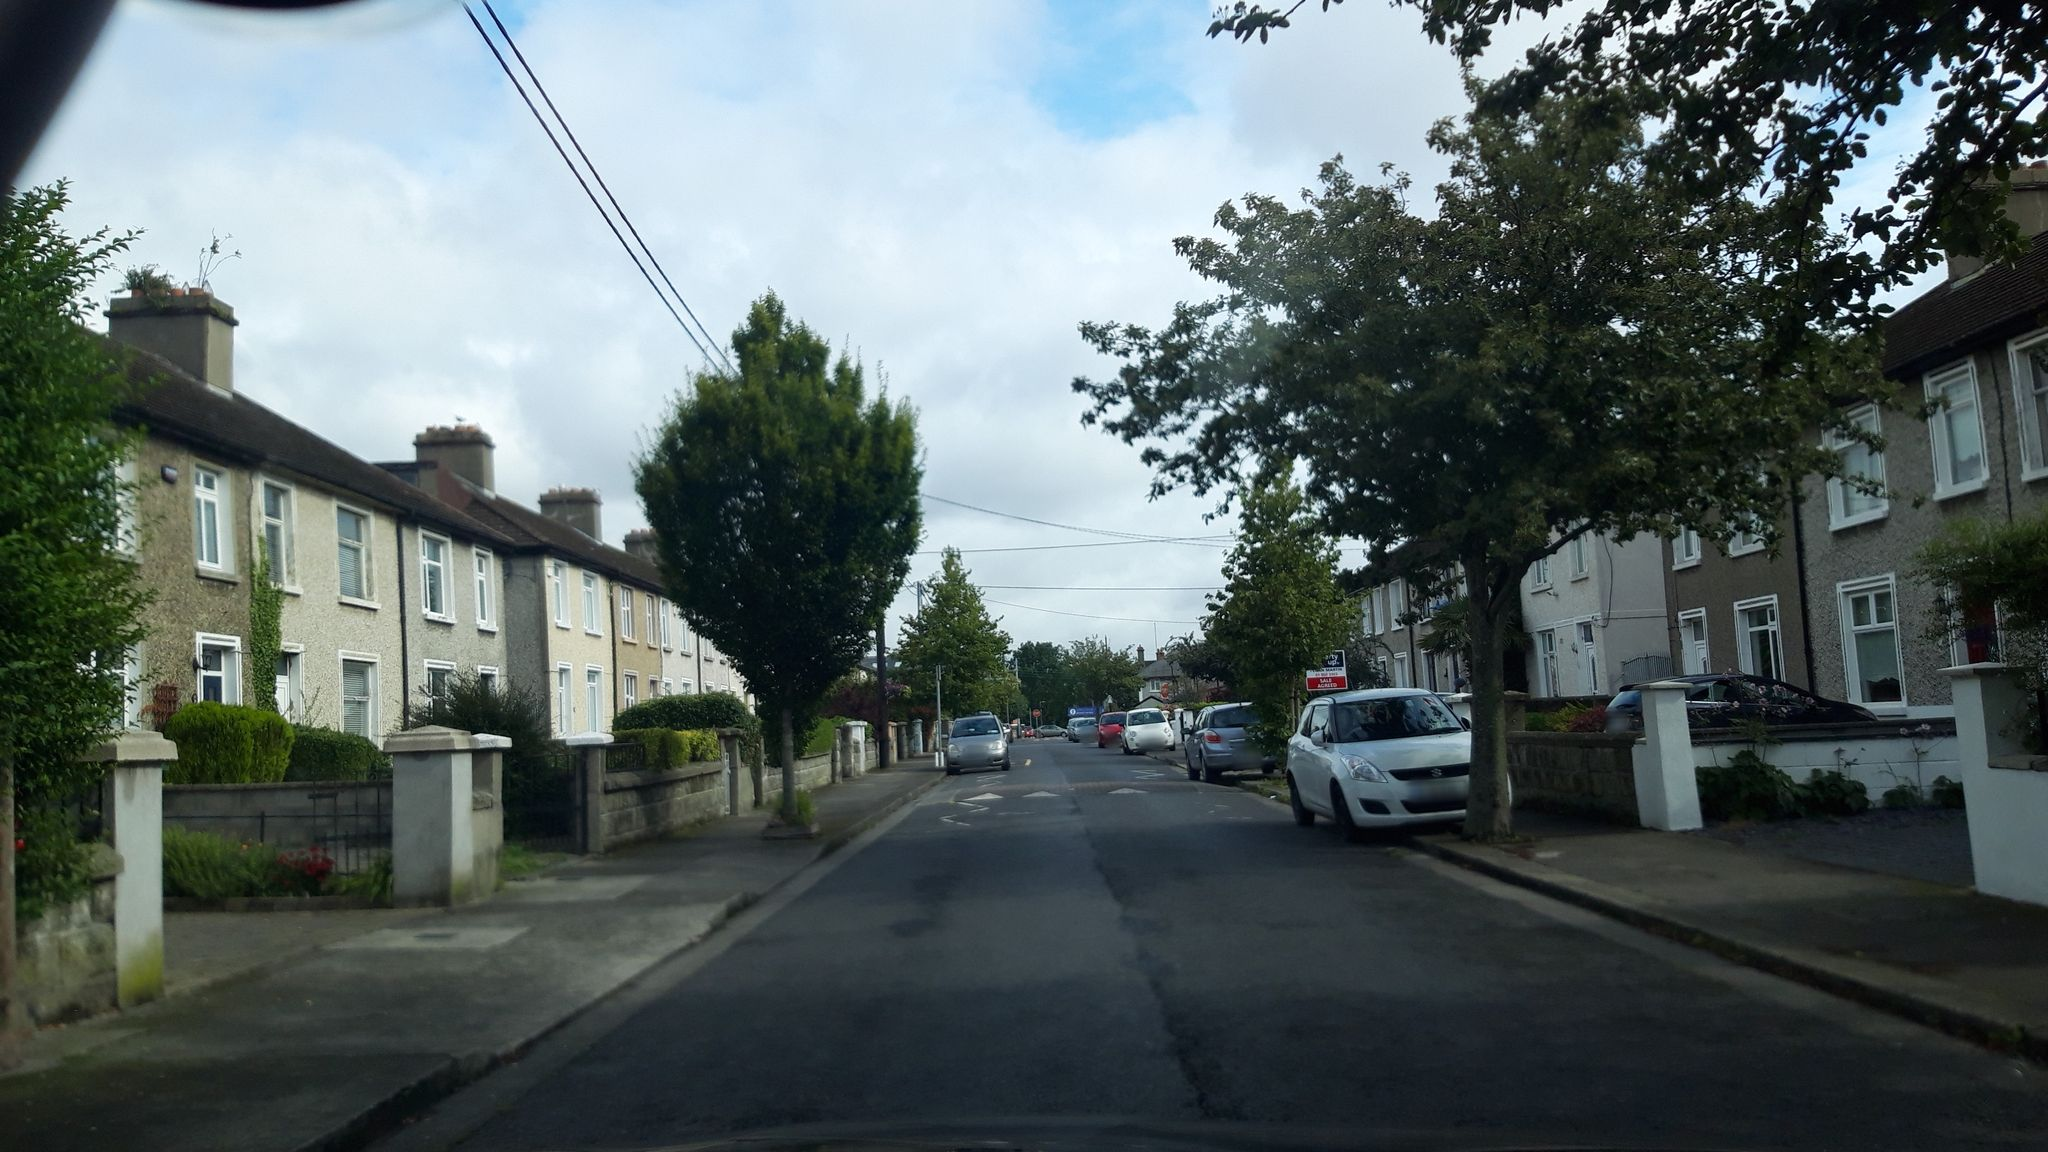property sign: (1297, 641, 1355, 696)
